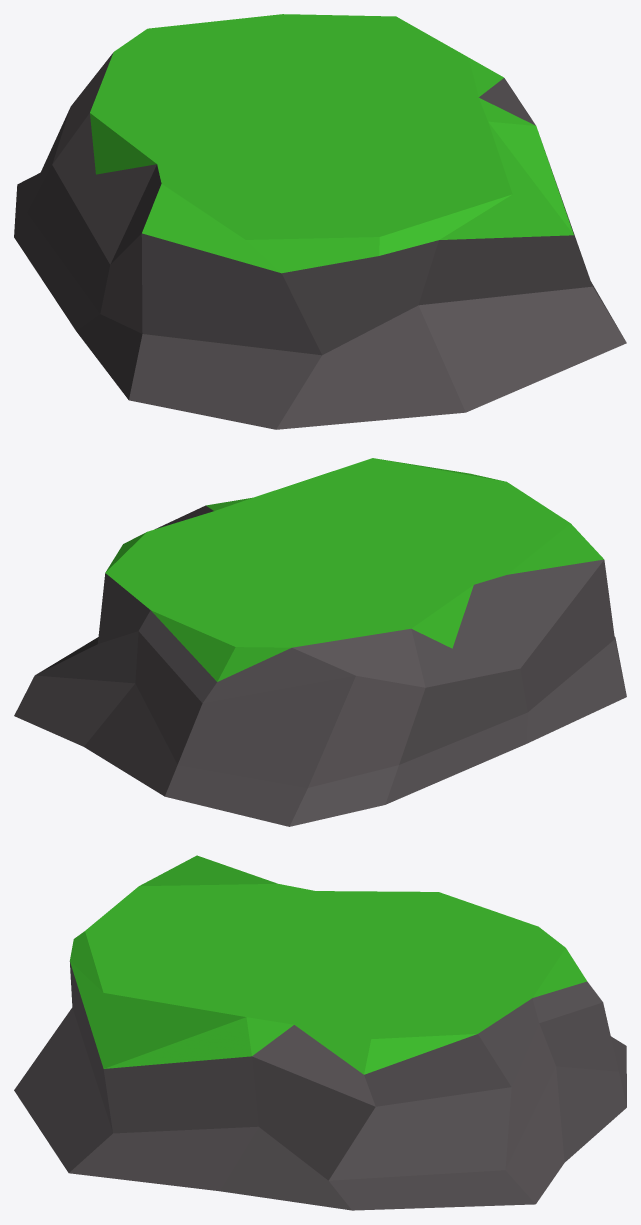
File: mountain_m1.fbx
3 renders of one model, top to bottom at view 1: azimuth 30°, elevation 25°; view 2: azimuth 150°, elevation 25°; view 3: azimuth 270°, elevation 25°, orthographic. The views are drawn at different scales.
Visible parts, largest first — view 1: Circle.015; view 2: Circle.015; view 3: Circle.015.
Part boxes in pixels (left/top/right/bottom): Circle.015: left=14, top=14, right=626, bottom=429; Circle.015: left=14, top=458, right=626, bottom=826; Circle.015: left=14, top=855, right=626, bottom=1210.
Size of the model in its own units: 1907 by 554 by 2206.
